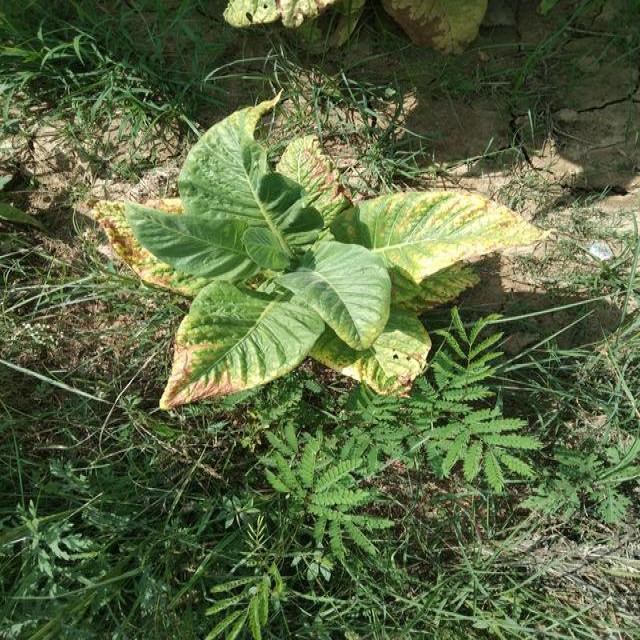crop: (94, 90, 532, 400)
